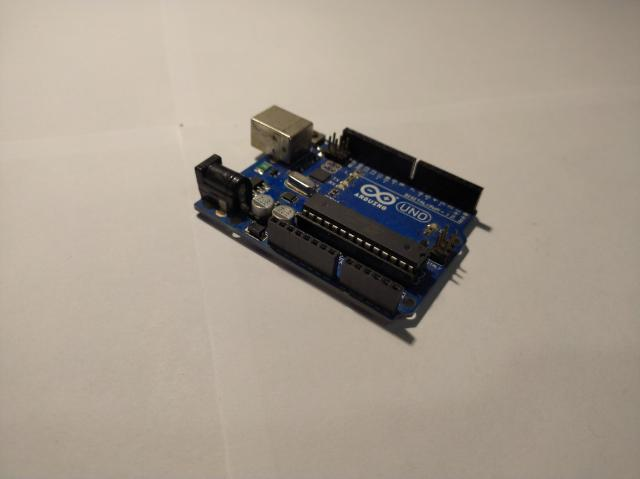arduino: (194, 103, 483, 318)
